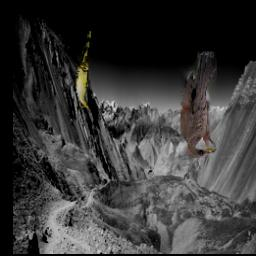Cuckoo: (181, 51, 218, 158), (76, 31, 91, 107)
